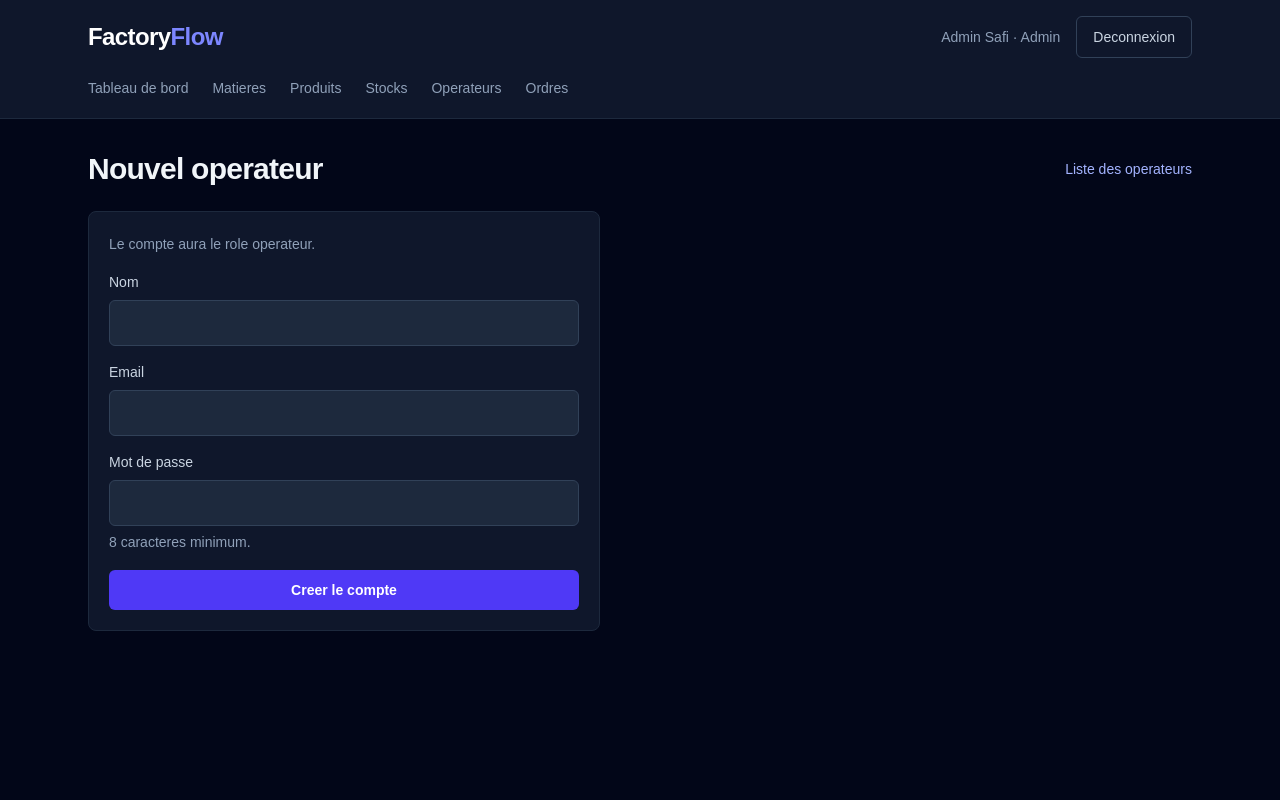
Scenario: operator account creation uses the authenticated registration endpoint
Check: the heading "Nouvel operateur" is shown, box [88,151,323,187]
Type "Sara" into the field labelled "Nom" at {"x": 344, "y": 323}, box [109,300,579,346]
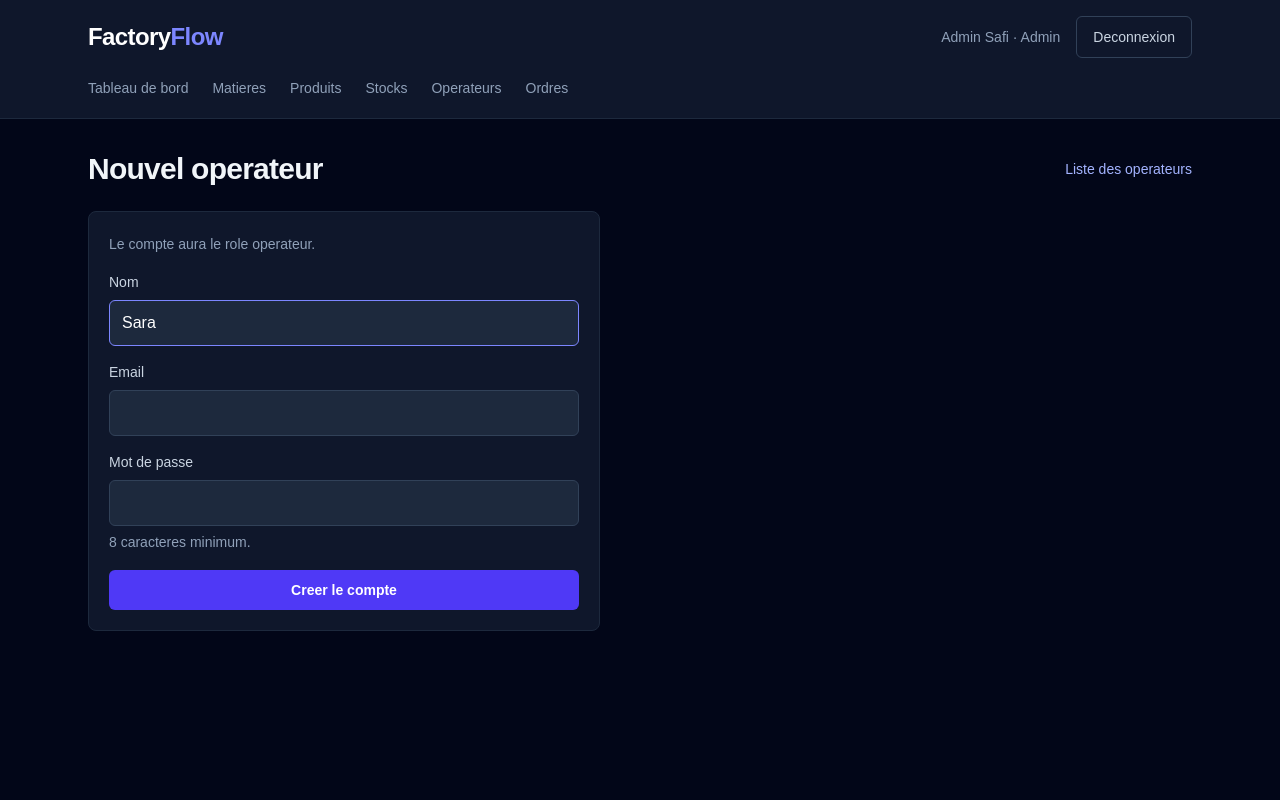
Type "sara@example.com" into the field labelled "Email" at {"x": 344, "y": 413}, box [109,390,579,436]
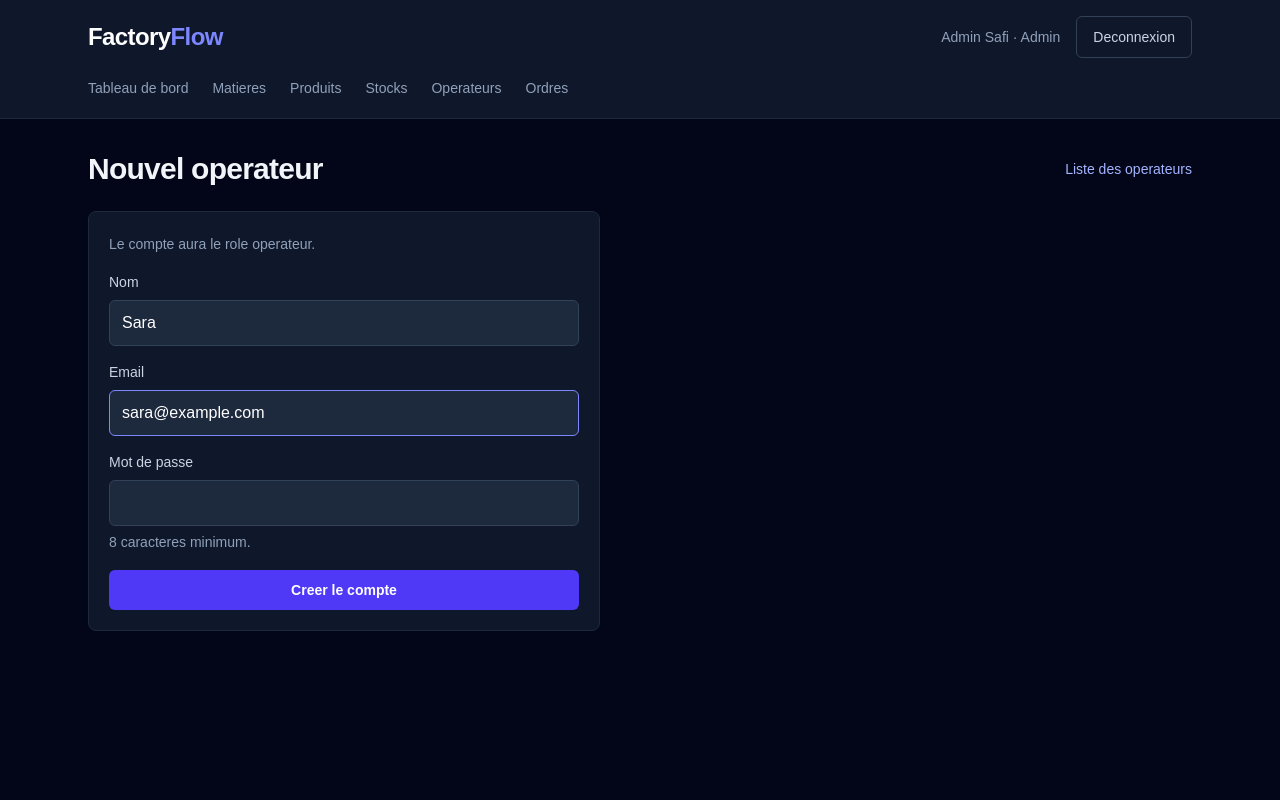
Type "password123" into the password field labelled "Mot de passe" at {"x": 344, "y": 503}, box [109,480,579,526]
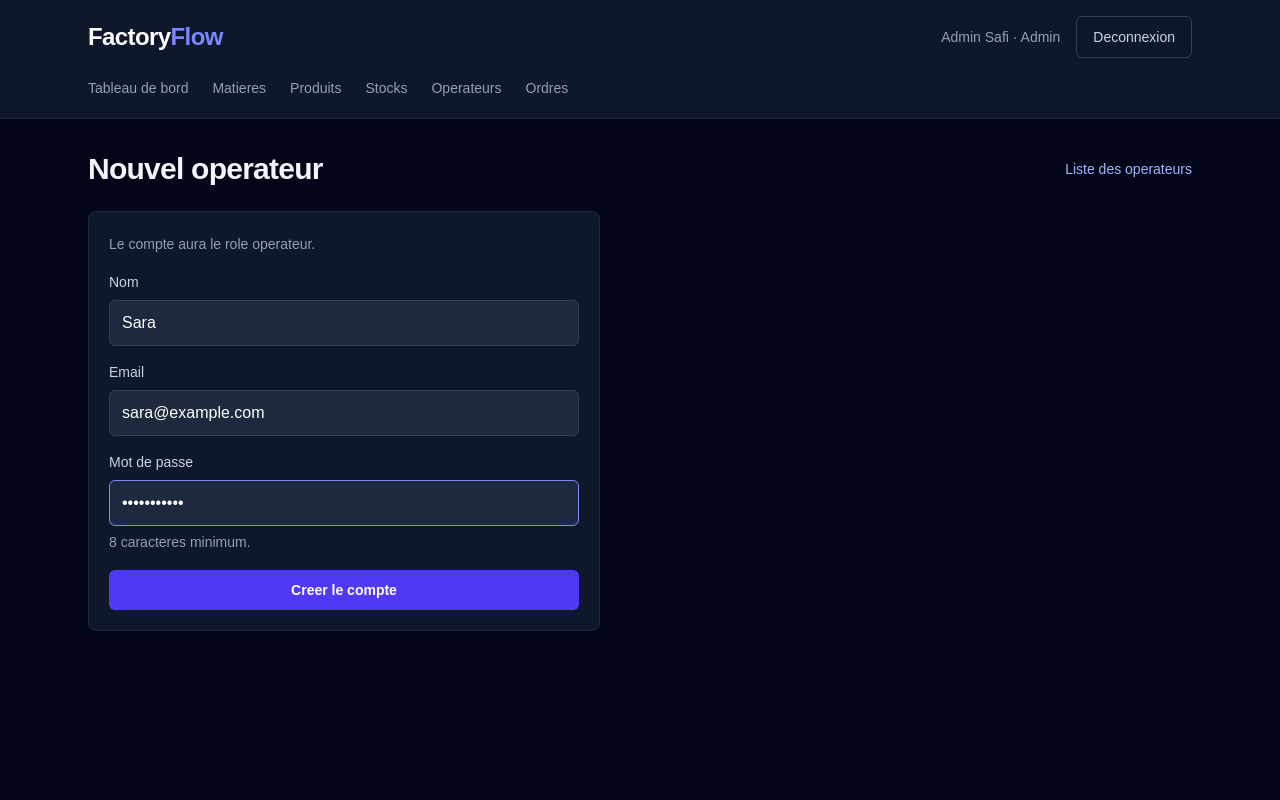
Click the button "Creer le compte" at {"x": 344, "y": 590}, box [109,570,579,610]
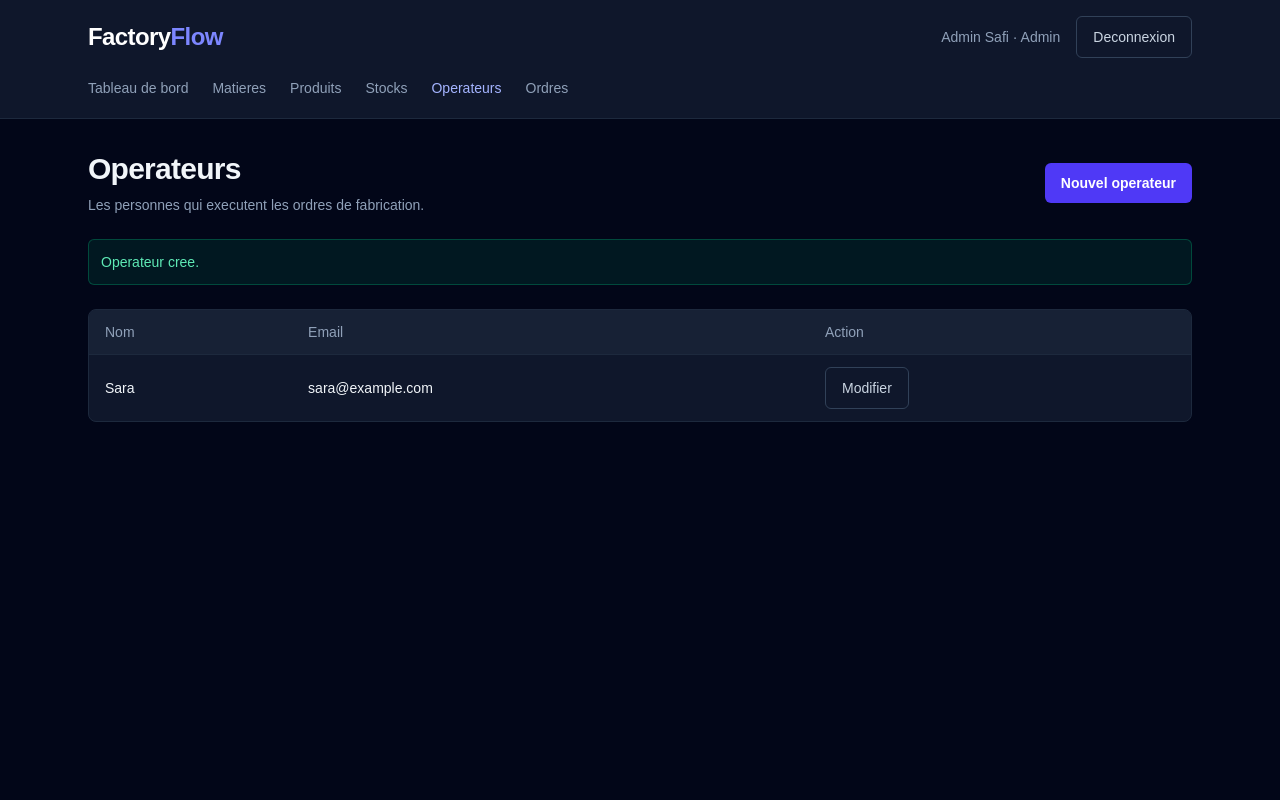
Check: the heading "Operateurs" is shown, box [88,152,241,185]
